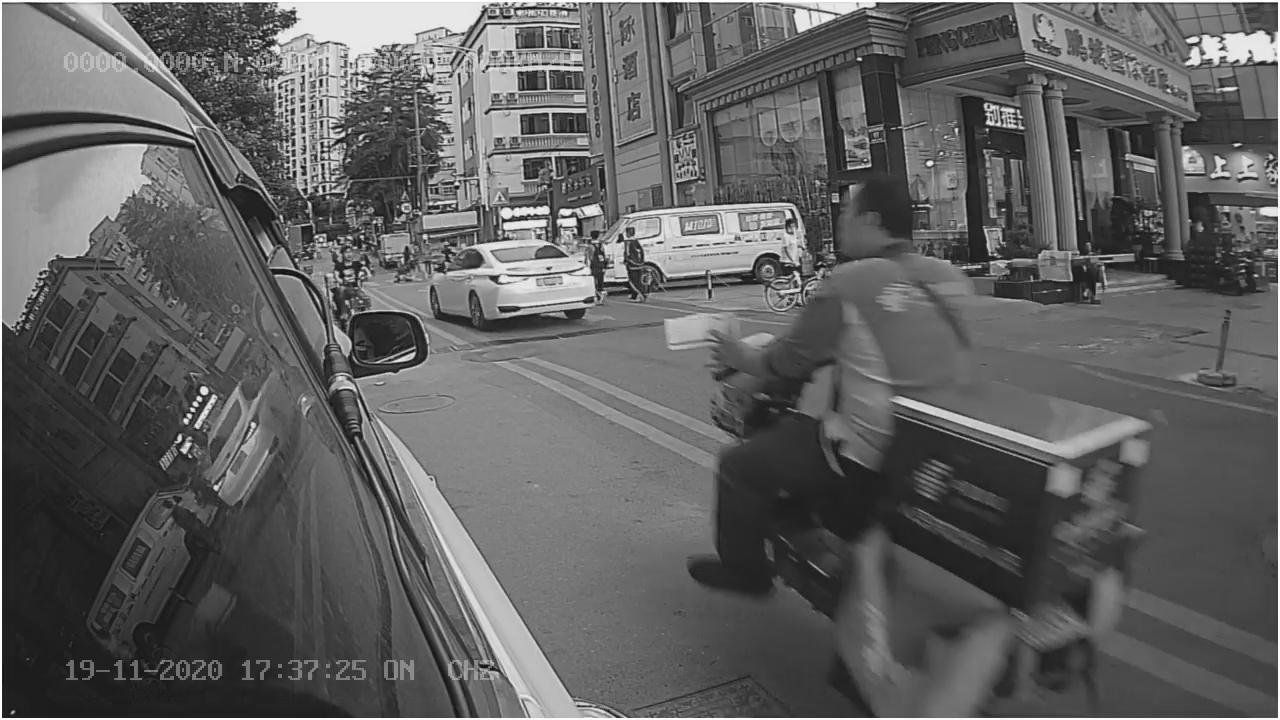person: (753, 185, 980, 367)
